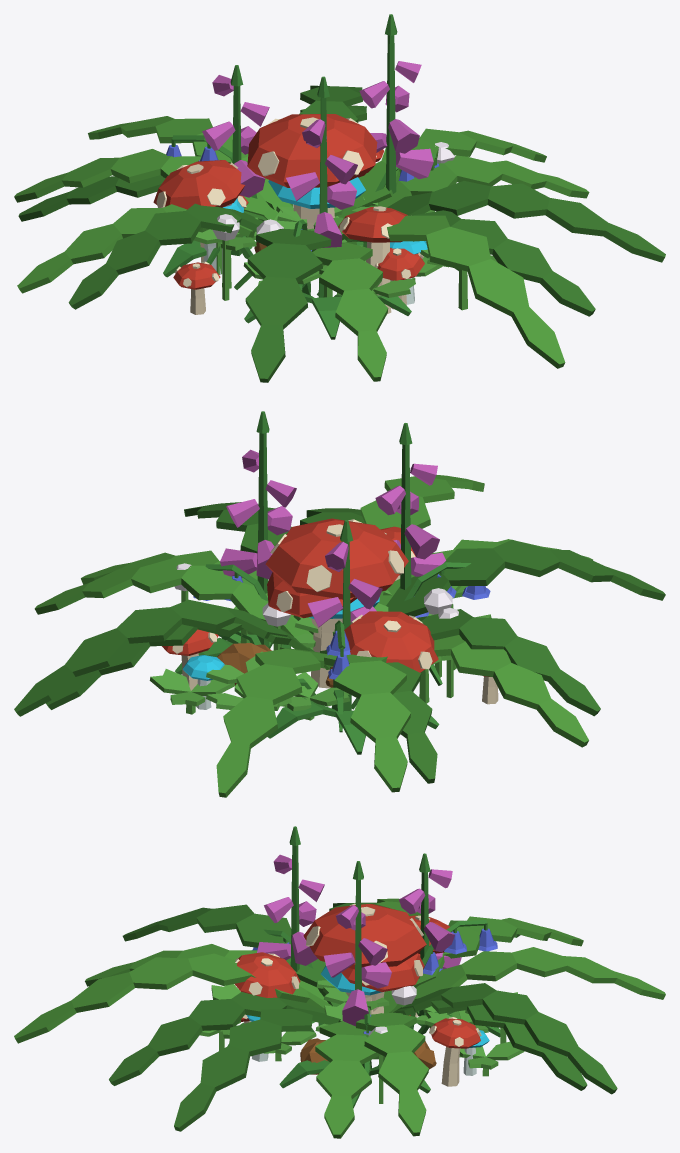
The model's file is w2_forestfloor.fbx.
3 views of the same model, one above another, from view 1: azimuth 30°, elevation 25°; view 2: azimuth 150°, elevation 25°; view 3: azimuth 270°, elevation 25° (orthographic). The views are drawn at different scales.
Visible parts, largest first — view 1: FernB.FrondsDark, FernB.Fronds, FernA.Fronds, MushroomsB.Caps, FernA.FrondsDark, Foxgloves.Bells, Foxgloves.Stems, MushroomsB.Stalks, CloverB.Leaves, CloverA.Leaves, GlowMushrooms.Caps, Bluebells.Stems (+2 smaller); view 2: FernB.Fronds, FernB.FrondsDark, MushroomsB.Caps, FernA.FrondsDark, FernA.Fronds, Foxgloves.Bells, Foxgloves.Stems, MushroomsB.Stalks, CloverB.Leaves, CloverA.Leaves, Bluebells.Stems, Bluebells.Bells (+4 smaller); view 3: FernB.Fronds, FernB.FrondsDark, FernA.Fronds, FernA.FrondsDark, MushroomsB.Caps, Foxgloves.Bells, Foxgloves.Stems, CloverB.Leaves, MushroomsB.Stalks, CloverA.Leaves, MushroomsA.Caps, Bluebells.Stems (+3 smaller).
Part boxes in pixels (left/top/right/bottom): FernB.FrondsDark: left=18, top=85, right=665, bottom=382; FernB.Fronds: left=17, top=116, right=565, bottom=368; FernA.Fronds: left=14, top=149, right=589, bottom=381; MushroomsB.Caps: left=153, top=114, right=407, bottom=289; FernA.FrondsDark: left=68, top=105, right=595, bottom=316; Foxgloves.Bells: left=202, top=61, right=433, bottom=249; Foxgloves.Stems: left=163, top=14, right=458, bottom=339; MushroomsB.Stalks: left=156, top=117, right=392, bottom=314; CloverB.Leaves: left=216, top=197, right=497, bottom=310; CloverA.Leaves: left=194, top=203, right=442, bottom=297; GlowMushrooms.Caps: left=223, top=177, right=427, bottom=254; Bluebells.Stems: left=171, top=135, right=436, bottom=295; FernB.Fronds: left=34, top=475, right=588, bottom=797; FernB.FrondsDark: left=14, top=502, right=665, bottom=783; MushroomsB.Caps: left=162, top=518, right=489, bottom=676; FernA.FrondsDark: left=46, top=508, right=600, bottom=716; FernA.Fronds: left=81, top=539, right=592, bottom=792; Foxgloves.Bells: left=220, top=449, right=445, bottom=627; Foxgloves.Stems: left=175, top=411, right=439, bottom=754; MushroomsB.Stalks: left=172, top=519, right=498, bottom=704; CloverB.Leaves: left=149, top=586, right=491, bottom=714; CloverA.Leaves: left=206, top=586, right=461, bottom=720; Bluebells.Stems: left=205, top=562, right=470, bottom=732; Bluebells.Bells: left=193, top=574, right=490, bottom=679; FernB.Fronds: left=14, top=898, right=665, bottom=1136; FernB.FrondsDark: left=122, top=904, right=617, bottom=1131; FernA.Fronds: left=85, top=916, right=583, bottom=1138; FernA.FrondsDark: left=109, top=902, right=587, bottom=1090; MushroomsB.Caps: left=234, top=904, right=480, bottom=1048; Foxgloves.Bells: left=257, top=854, right=461, bottom=1026; Foxgloves.Stems: left=227, top=826, right=500, bottom=1108; CloverB.Leaves: left=200, top=980, right=524, bottom=1103; MushroomsB.Stalks: left=235, top=903, right=481, bottom=1086; CloverA.Leaves: left=264, top=987, right=488, bottom=1076; MushroomsA.Caps: left=241, top=953, right=424, bottom=1021; Bluebells.Stems: left=264, top=920, right=487, bottom=1071.
Size of the model in its own units: 6.17 by 2.66 by 7.29.
